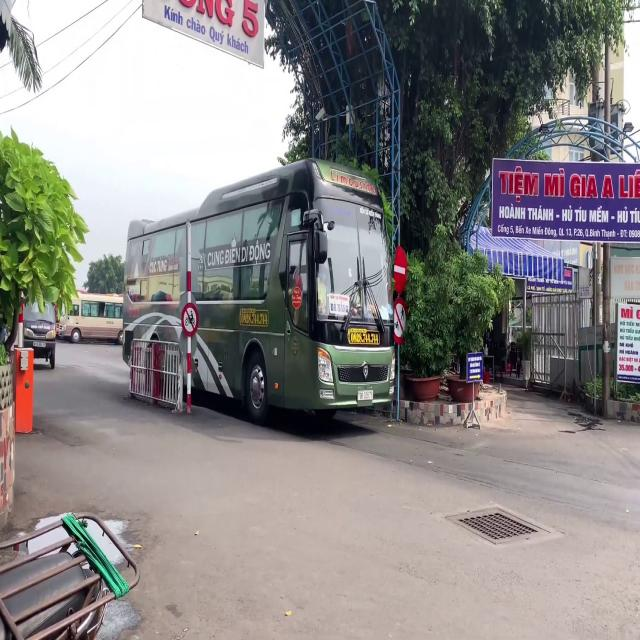bien_trang: (357, 391, 374, 400)
